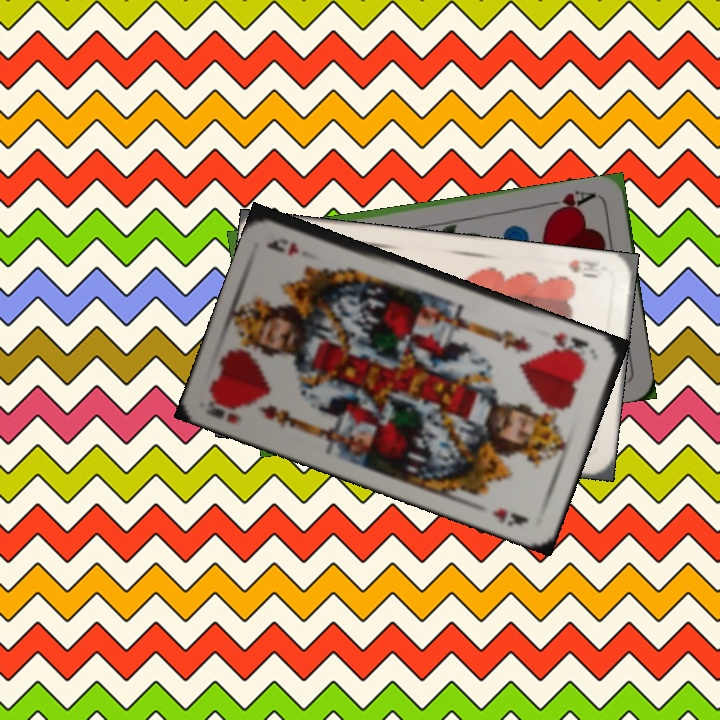H10: (564, 255, 604, 281)
HA: (541, 186, 599, 218)
HK: (548, 328, 592, 363), (202, 393, 244, 426)
